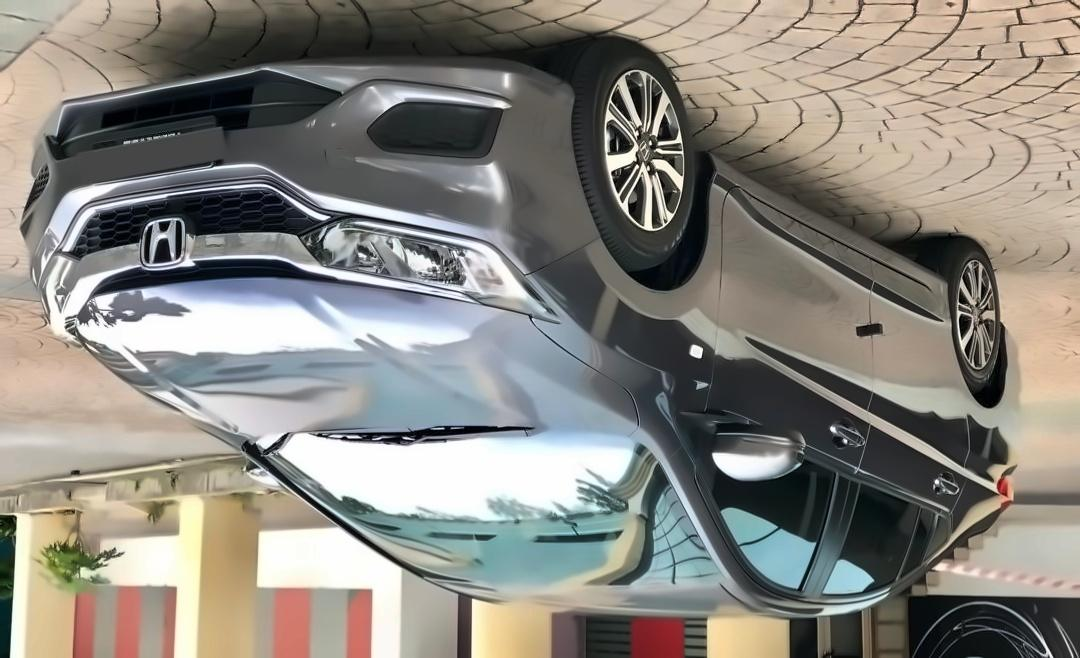Car hood: (57, 275, 639, 445)
Driver-s door - -F-R-: (668, 131, 895, 635)
Fender - -F-R-: (521, 157, 735, 444)
Fender - -R-R-: (922, 313, 1019, 568)
Front bumper: (21, 53, 605, 317)
Headlight - -L-: (301, 213, 556, 324)
Passenger-s door - -R-R-: (794, 216, 973, 631)
Side bumper - -R-: (706, 146, 955, 347)
Side mirror - -R-: (681, 420, 805, 482)
